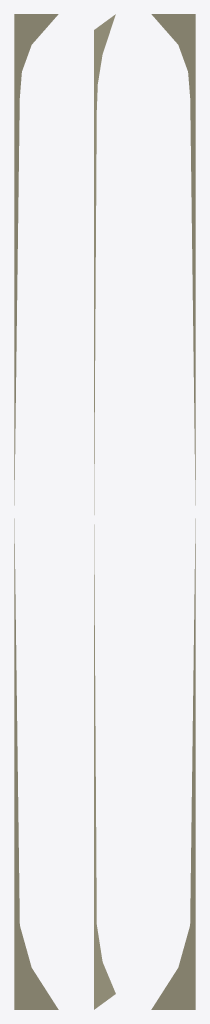
Rendered from ModuleSC_side_wall_2.FBX.
3 renders of one model, left to right at view 1: azimuth 90°, elevation 25°; view 2: azimuth 150°, elevation 25°; view 3: azimuth 270°, elevation 25°, orthographic.
Visible parts, largest first — view 1: ModuleSCs_B_wall_009; view 2: ModuleSCs_B_wall_009; view 3: ModuleSCs_B_wall_009.
Boxes of the visible parts, x1=… form: ModuleSCs_B_wall_009: x1=14, y1=14, x2=58, y2=1009; ModuleSCs_B_wall_009: x1=94, y1=14, x2=115, y2=1009; ModuleSCs_B_wall_009: x1=151, y1=14, x2=195, y2=1009.
Bounding box in the file's own units: 8.97e-05 × 78.74 × 3.2.
